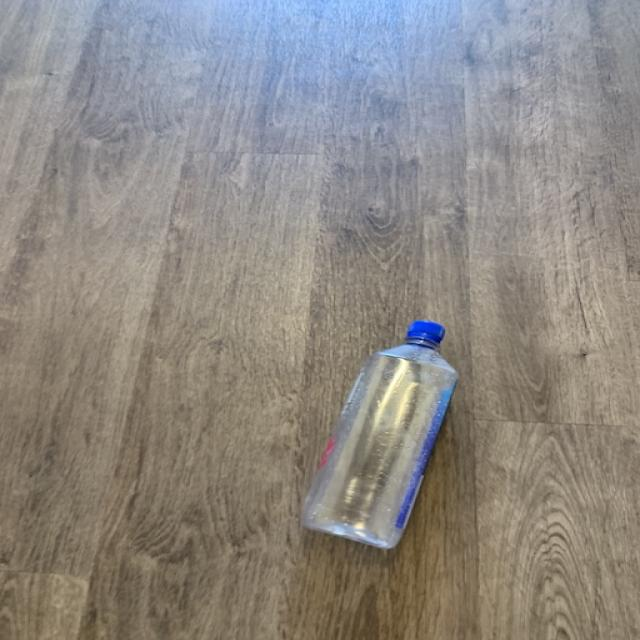Waste: (302, 321, 459, 550)
